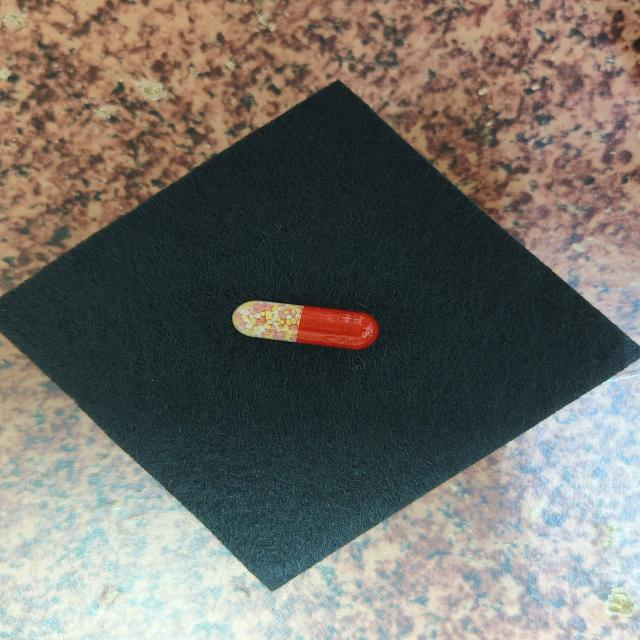Intact Capsule: (232, 301, 379, 350)
